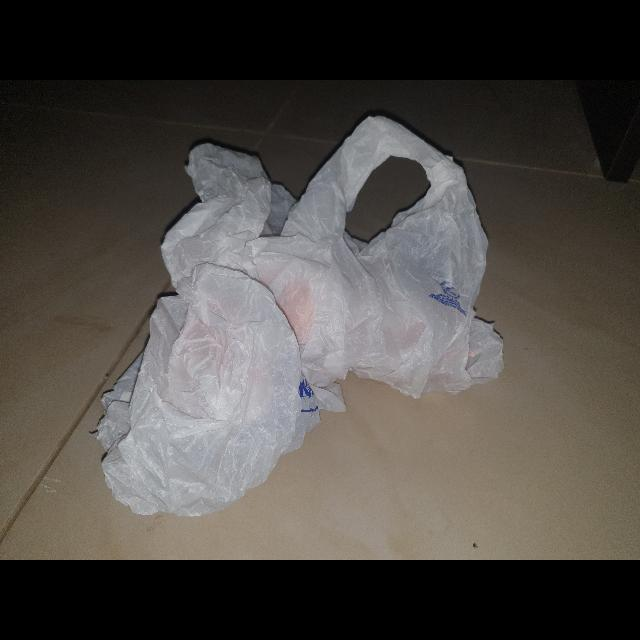plastic_bag: (82, 104, 512, 528)
